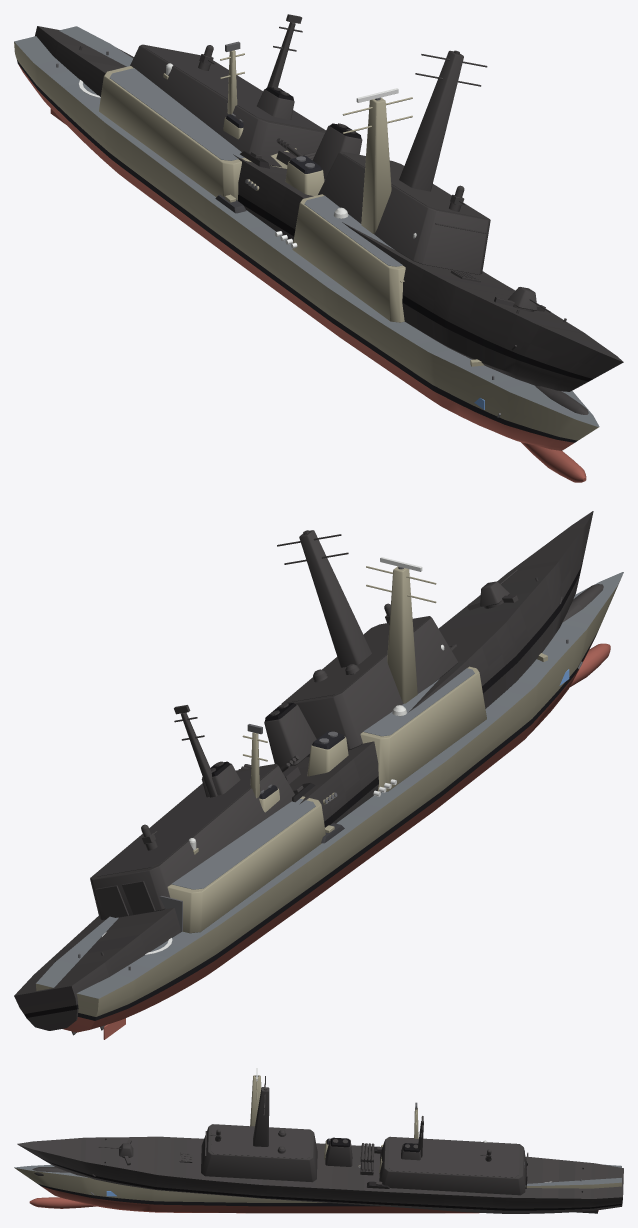
Rendered from destroyer__gwanggaeto_the_great_class.glb.
3 renders of one model, top to bottom at view 1: azimuth 30°, elevation 25°; view 2: azimuth 150°, elevation 25°; view 3: azimuth 270°, elevation 25°, orthographic. The views are drawn at different scales.
Parts seen in each view (by area): view 1: Hull_Mesh, Wreck; view 2: Wreck, Hull_Mesh; view 3: Wreck, Hull_Mesh.
Part boxes in pixels (x1,y1,x2,y2): Hull_Mesh: (14,26,599,482); Wreck: (35,14,623,414); Wreck: (14,511,603,1035); Hull_Mesh: (36,566,623,1039); Wreck: (17,1076,623,1213); Hull_Mesh: (14,1075,621,1213).
Size of what is drawn, in the model's own units: 24.23 by 37.78 by 142.
